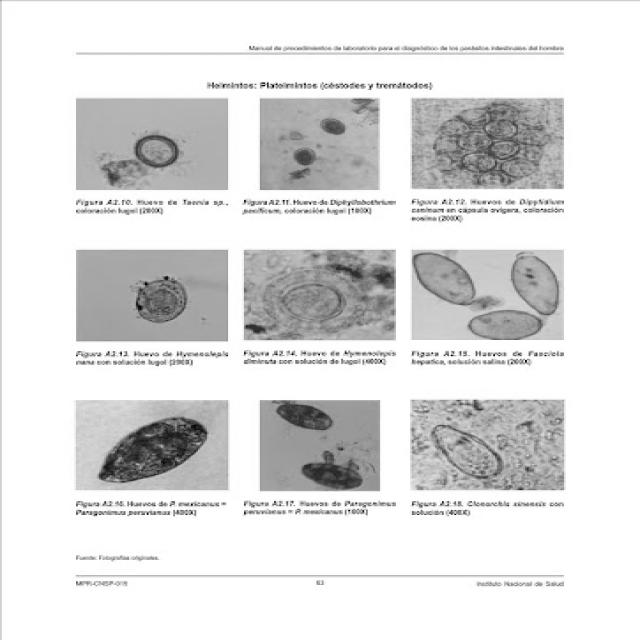Hymenolepis: (256, 264, 366, 335), (406, 250, 480, 310), (504, 245, 562, 317), (128, 273, 188, 323), (461, 307, 541, 339)
Taenia Sp: (124, 131, 184, 169)
